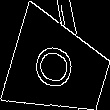O_E: (32, 39, 85, 97)
